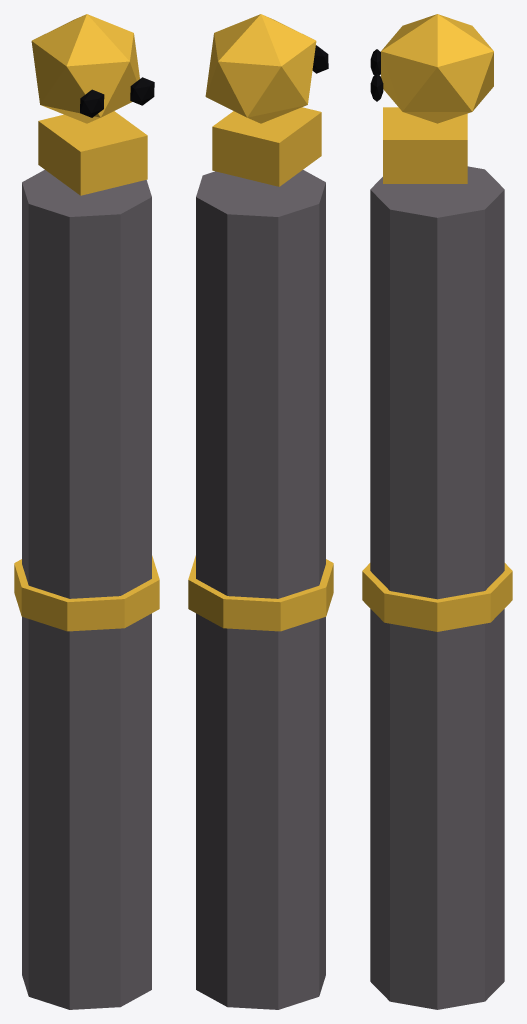
Rendered from Prop_OR_SkullTotem_07.glb.
The picture shows the model from 3 angles, left to right: view 1: azimuth 30°, elevation 25°; view 2: azimuth 150°, elevation 25°; view 3: azimuth 270°, elevation 25°; orthographic projection.
Visible parts, largest first — view 1: Prop_OR_SkullTotem_07; view 2: Prop_OR_SkullTotem_07; view 3: Prop_OR_SkullTotem_07.
Part boxes in pixels (x1,y1,x2,y2): Prop_OR_SkullTotem_07: (14,14,159,1009); Prop_OR_SkullTotem_07: (188,14,333,1009); Prop_OR_SkullTotem_07: (362,14,512,1009).
Size of the model in its own units: 0.56 by 3.97 by 0.56.
